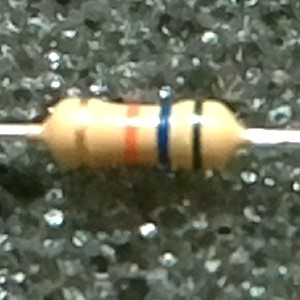black_band: (190, 97, 207, 173)
blue_band: (155, 100, 174, 169)
gold_band: (72, 96, 93, 169)
orange_band: (122, 101, 143, 168)
